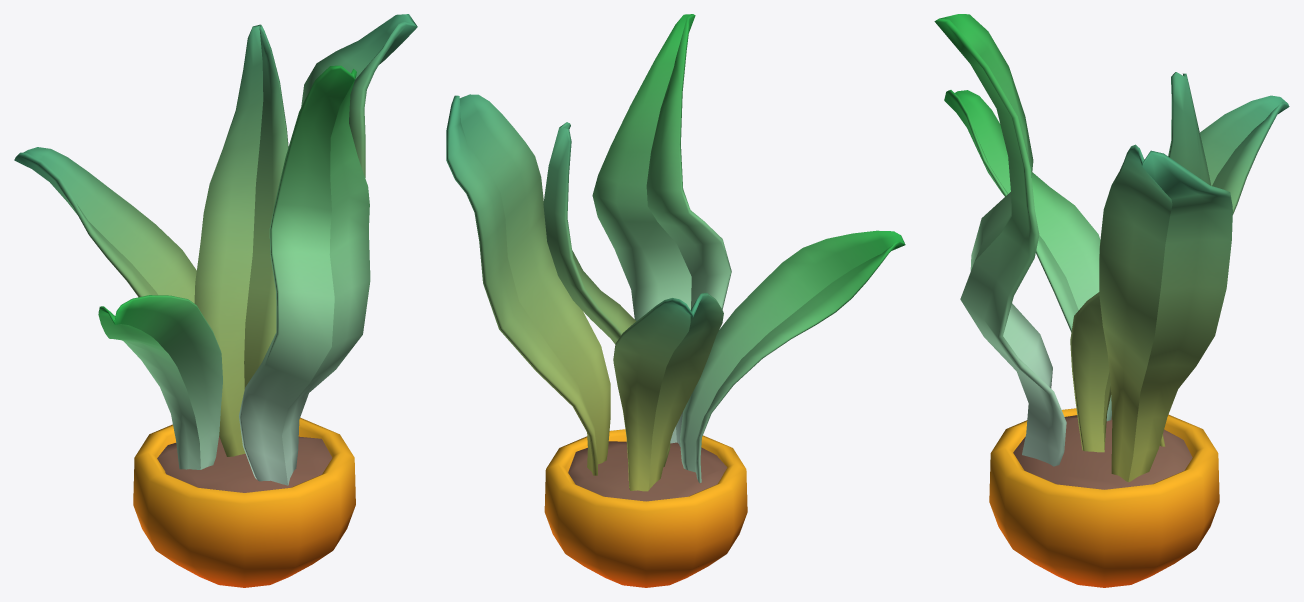
The model's file is Plant_2.fbx.
The picture shows the model from 3 angles, left to right: view 1: azimuth 30°, elevation 25°; view 2: azimuth 150°, elevation 25°; view 3: azimuth 270°, elevation 25°; orthographic projection. The views are drawn at different scales.
Visible parts, largest first — view 1: Plant_2; view 2: Plant_2; view 3: Plant_2.
Boxes of the visible parts, left/top/right/bottom form: Plant_2: left=14, top=14, right=417, bottom=587; Plant_2: left=446, top=14, right=905, bottom=587; Plant_2: left=934, top=14, right=1289, bottom=587.
Bounding box in the file's own units: 0.6347 × 0.8287 × 0.4723.
